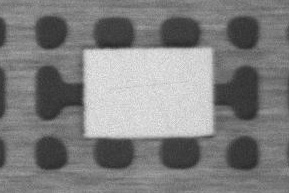DIE_CRACK: (163, 54, 280, 59)
